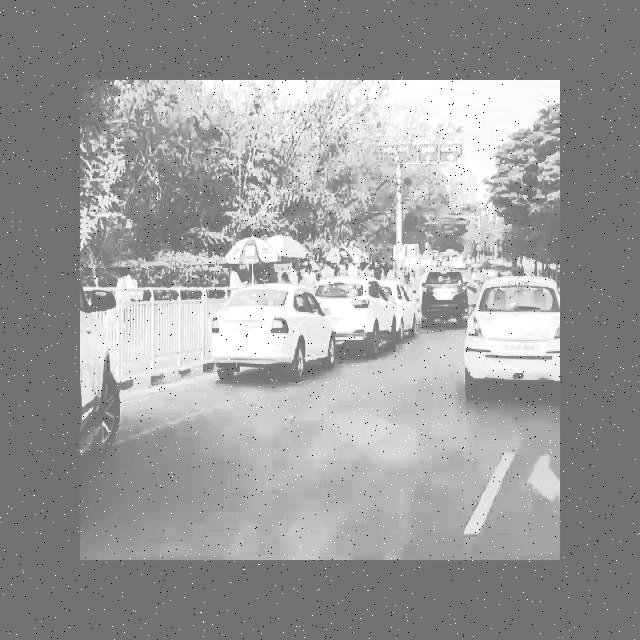Car: (204, 280, 340, 382), (75, 238, 130, 464), (467, 268, 561, 392), (329, 268, 393, 358), (417, 258, 467, 330), (391, 271, 418, 345)
